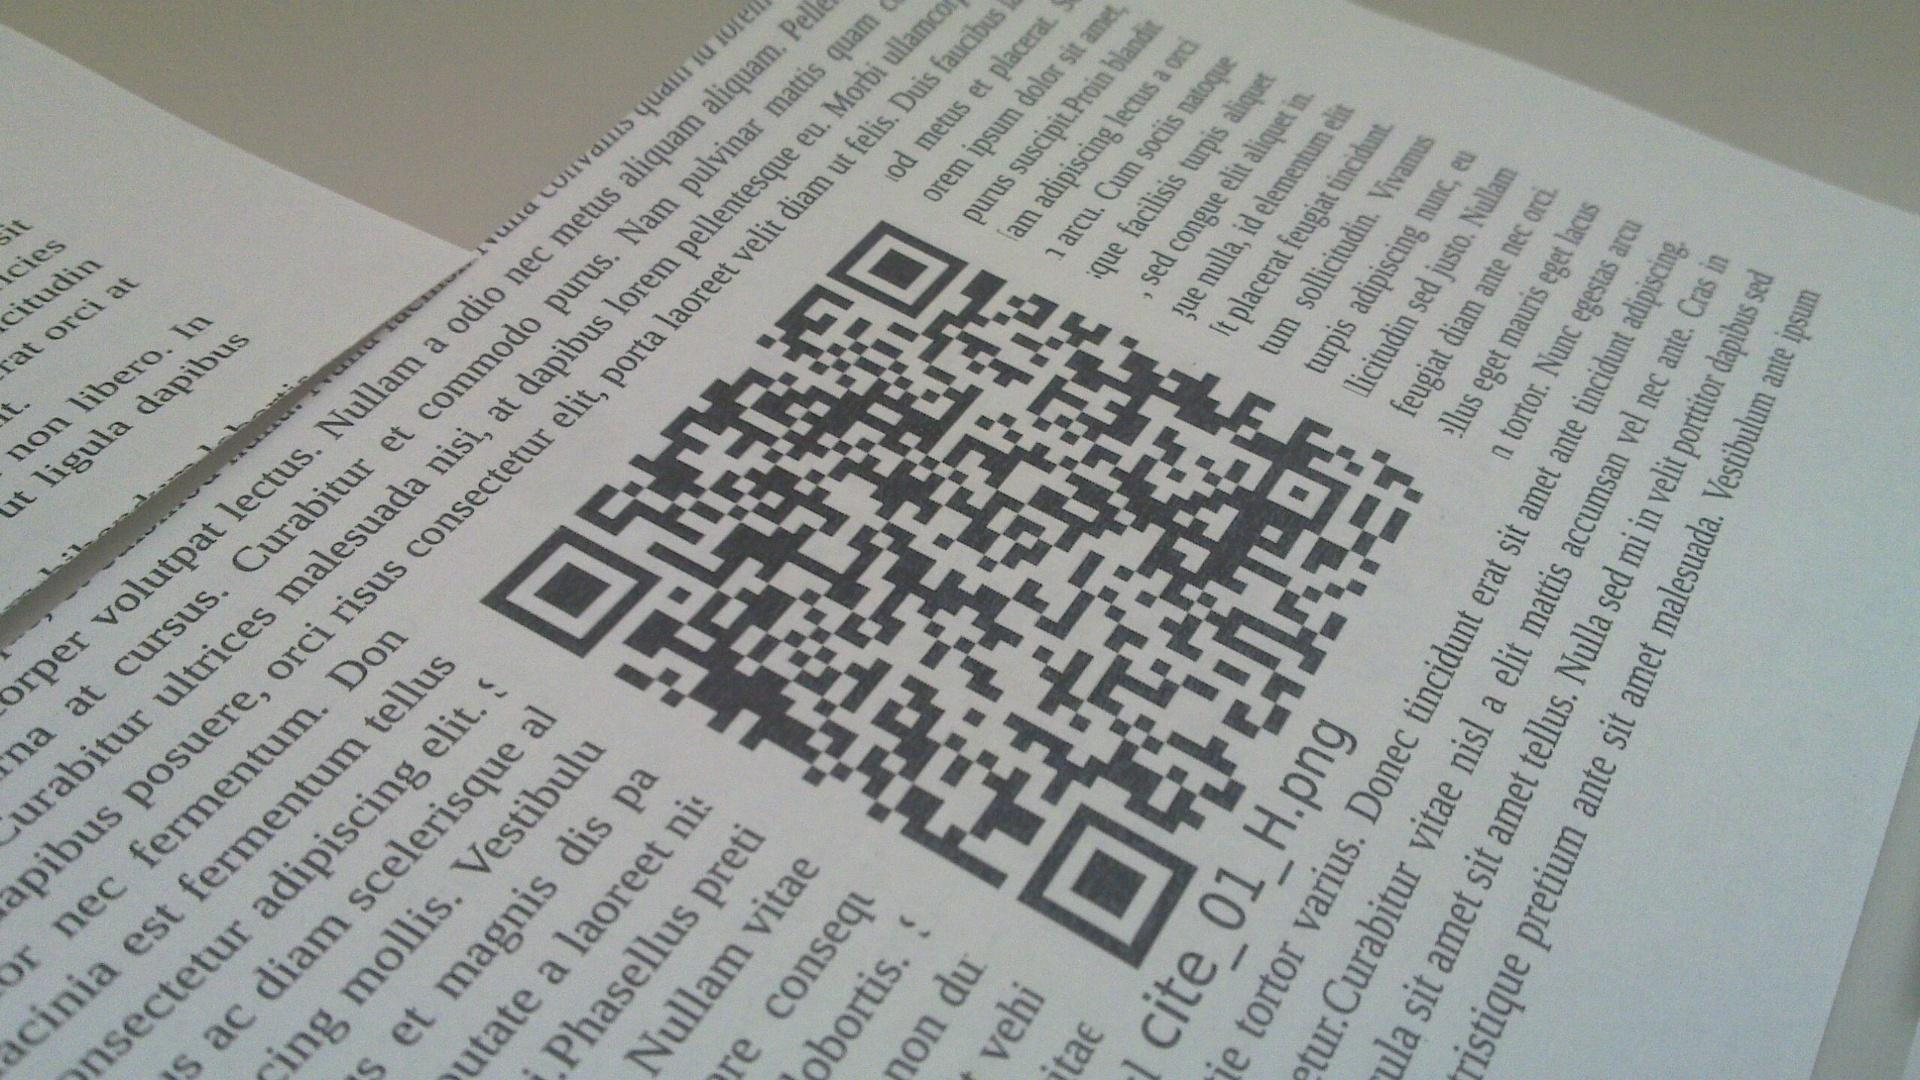Finder pattern: (1014, 800, 1203, 969), (477, 531, 665, 658), (822, 223, 967, 319)
